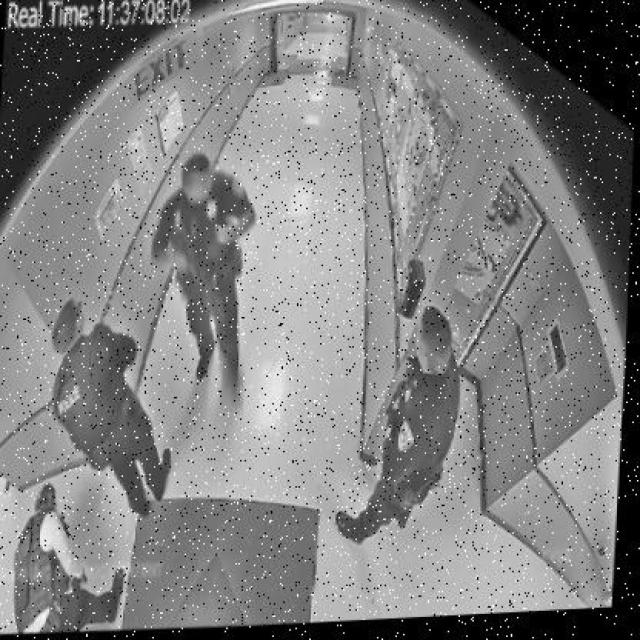weapon: (172, 226, 230, 346)
